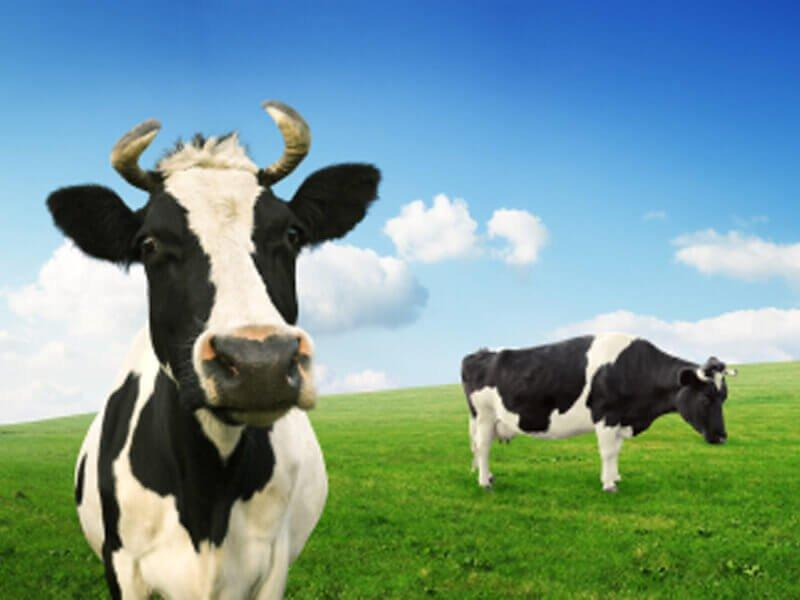muzzles: (190, 329, 319, 434)
